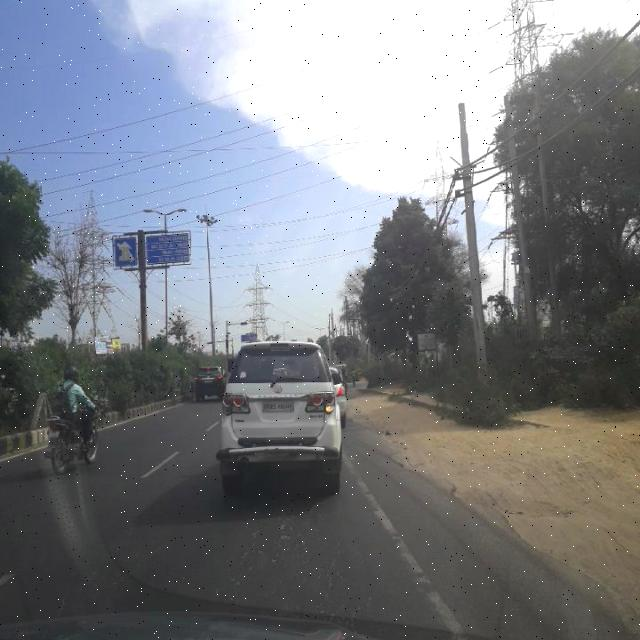D20: (189, 488, 363, 621)
D44: (350, 470, 455, 623)
